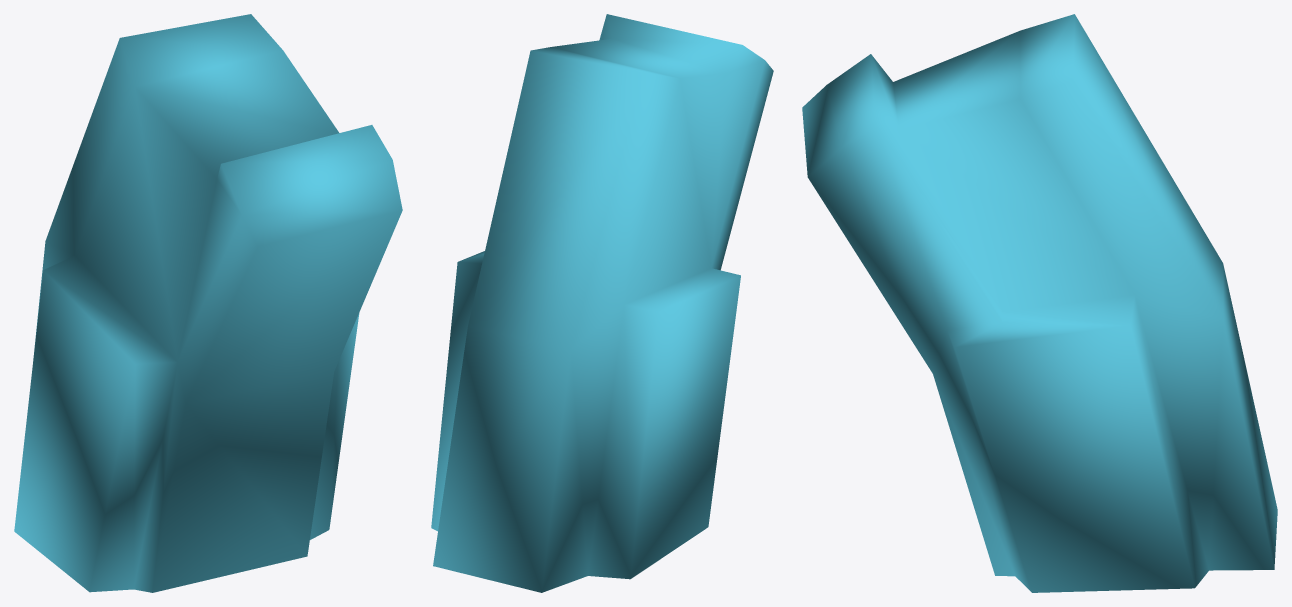
The model's file is arc_01.FBX.
The picture shows the model from 3 angles, left to right: view 1: azimuth 30°, elevation 25°; view 2: azimuth 150°, elevation 25°; view 3: azimuth 270°, elevation 25°; orthographic projection. The views are drawn at different scales.
Parts seen in each view (by area): view 1: arc_01; view 2: arc_01; view 3: arc_01.
Boxes of the visible parts, x1,y1,x2,y2 form: arc_01: (14, 14, 402, 592); arc_01: (431, 14, 773, 592); arc_01: (802, 14, 1277, 592).
Bounding box in the file's own units: 27.37 × 57.44 × 49.76.
